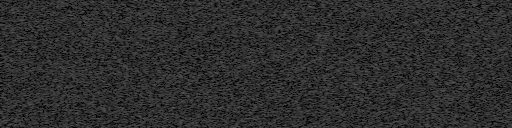wv_cw: (7, 0, 13, 128)
wv_usb: (13, 1, 19, 120), (239, 35, 245, 128), (16, 18, 21, 89), (264, 47, 268, 128), (96, 94, 101, 128), (96, 60, 101, 93), (240, 1, 245, 28), (96, 2, 101, 27), (96, 28, 101, 51), (264, 24, 268, 46), (16, 109, 20, 128), (13, 121, 18, 128), (96, 52, 101, 59), (240, 29, 245, 34), (16, 6, 20, 12), (16, 90, 20, 95), (17, 96, 20, 102), (16, 13, 20, 17), (264, 4, 268, 8), (264, 16, 267, 20), (264, 12, 268, 15)
